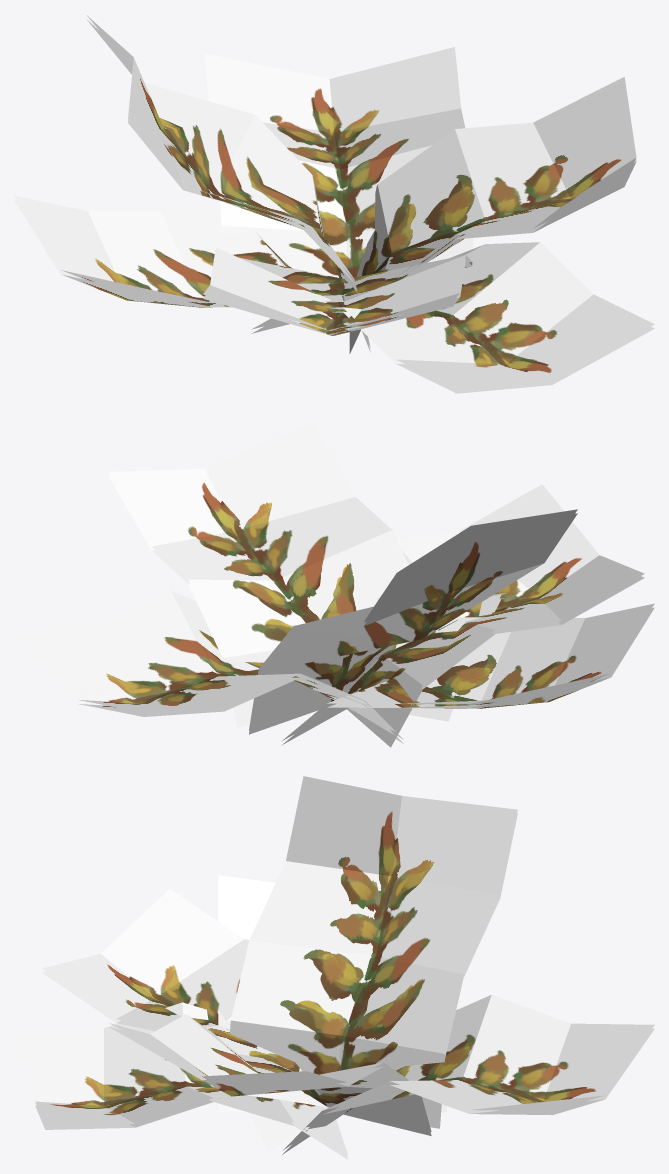
The model's file is Ferns02.fbx.
3 views of the same model, one above another, from view 1: azimuth 30°, elevation 25°; view 2: azimuth 150°, elevation 25°; view 3: azimuth 270°, elevation 25° (orthographic). The views are drawn at different scales.
Visible parts, largest first — view 1: Fern02; view 2: Fern02; view 3: Fern02.
Boxes of the visible parts, <box> form: Fern02: <box>14,15,654,393</box>; Fern02: <box>14,422,654,747</box>; Fern02: <box>14,776,654,1159</box>.
Bounding box in the file's own units: 2.01 × 0.9069 × 2.22.
Materials: 1 (1 with a texture image).
